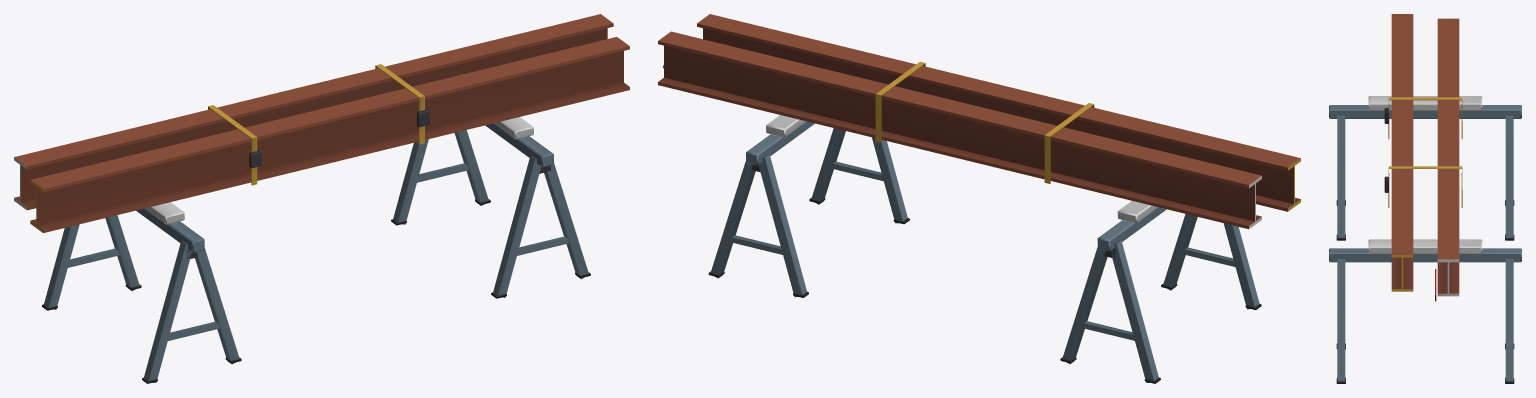
The model's file is BeamTrestles.fbx.
3 renders of one model, left to right at view 1: azimuth 30°, elevation 25°; view 2: azimuth 150°, elevation 25°; view 3: azimuth 270°, elevation 25°, orthographic. The views are drawn at different scales.
Parts seen in each view (by area): view 1: BeamTrestles; view 2: BeamTrestles; view 3: BeamTrestles.
Part boxes in pixels (bbox=[...]): BeamTrestles: bbox=[14, 14, 629, 383]; BeamTrestles: bbox=[658, 14, 1300, 383]; BeamTrestles: bbox=[1329, 14, 1521, 383].
Bounding box in the file's own units: 4.34 × 1.31 × 1.42.
